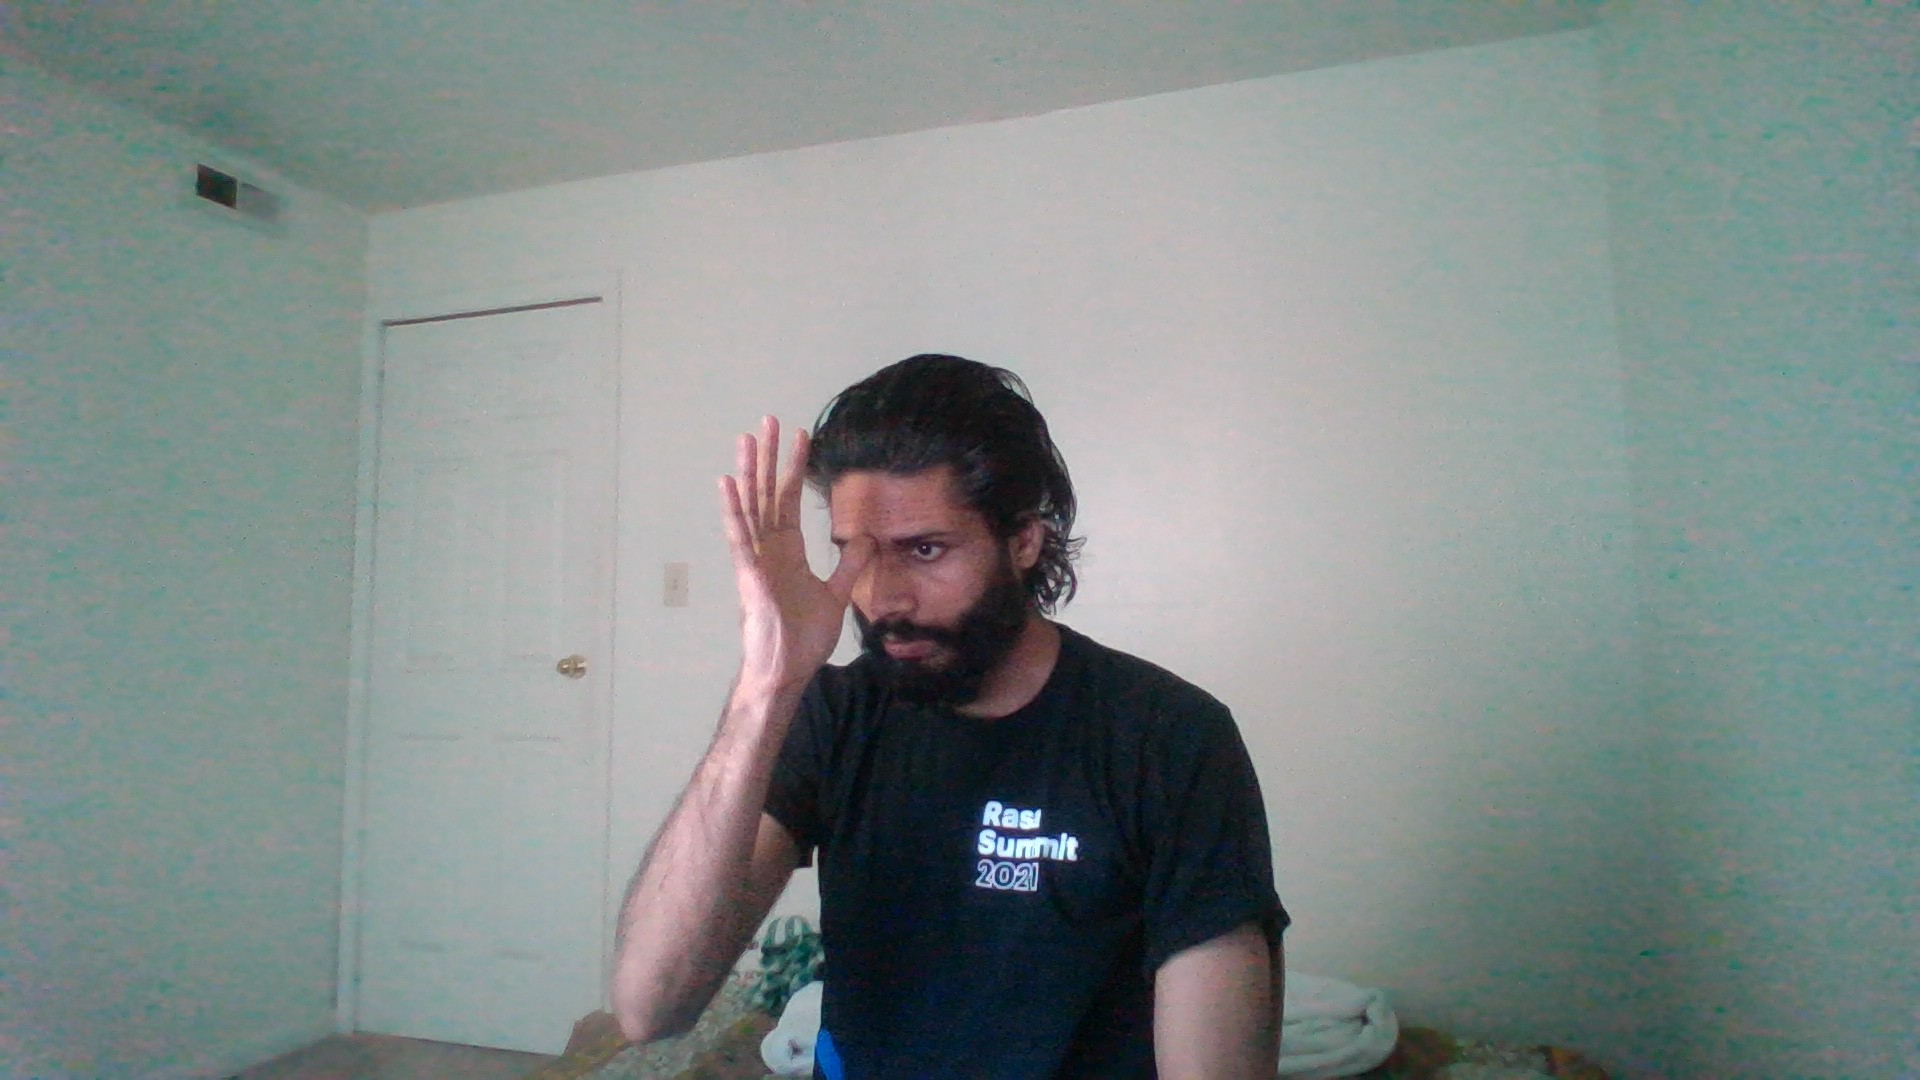Dad: (637, 400, 960, 723)
